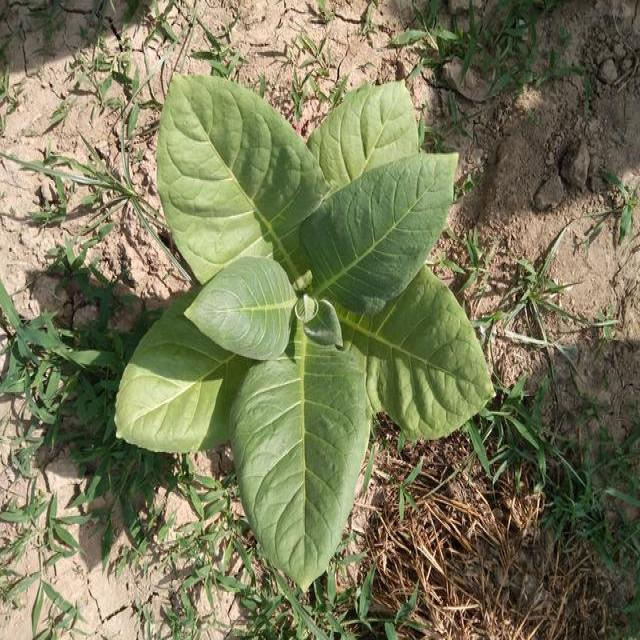crop: (119, 74, 501, 595)
